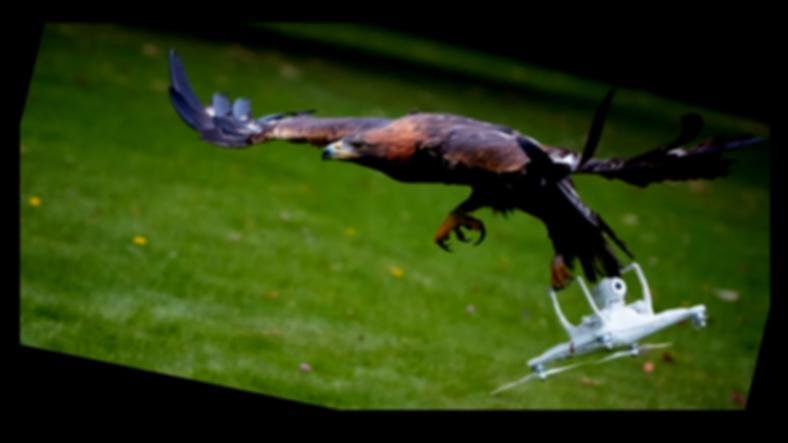Bird: (152, 43, 758, 286)
UAV: (497, 254, 709, 399)
